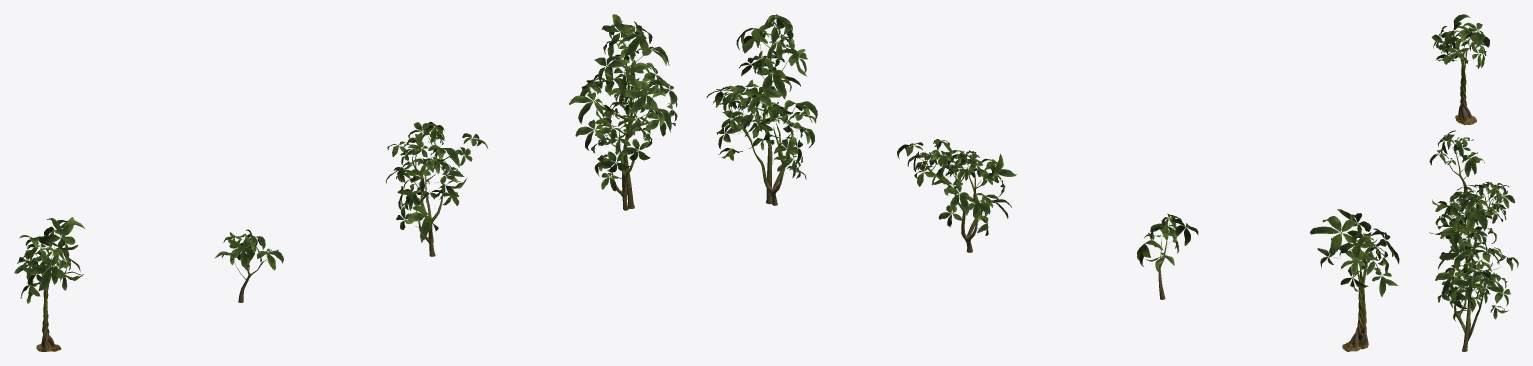
The model's file is sapling.jpg-B193Fxmn.glb.
The picture shows the model from 3 angles, left to right: view 1: azimuth 30°, elevation 25°; view 2: azimuth 150°, elevation 25°; view 3: azimuth 270°, elevation 25°; orthographic projection. The views are drawn at different scales.
Visible parts, largest first — view 1: pachira_aquatica_01_leaves_d, pachira_aquatica_01_leaves_c, pachira_aquatica_01_leaves_a, pachira_aquatica_01_leaves_b, pachira_aquatica_01_bark_d, pachira_aquatica_01_bark_c, pachira_aquatica_01_bark_a; view 2: pachira_aquatica_01_leaves_d, pachira_aquatica_01_leaves_c, pachira_aquatica_01_leaves_a, pachira_aquatica_01_leaves_b, pachira_aquatica_01_bark_d, pachira_aquatica_01_bark_a, pachira_aquatica_01_bark_c; view 3: pachira_aquatica_01_leaves_d, pachira_aquatica_01_leaves_c, pachira_aquatica_01_leaves_a, pachira_aquatica_01_leaves_b, pachira_aquatica_01_bark_d, pachira_aquatica_01_bark_a, pachira_aquatica_01_bark_c, pachira_aquatica_01_bark_b.
Part boxes in pixels (box(x1,y1,x2,y2)): pachira_aquatica_01_leaves_d: box(569, 14, 677, 191); pachira_aquatica_01_leaves_c: box(385, 122, 487, 242); pachira_aquatica_01_leaves_a: box(14, 217, 84, 303); pachira_aquatica_01_leaves_b: box(214, 229, 283, 279); pachira_aquatica_01_bark_d: box(595, 44, 652, 210); pachira_aquatica_01_bark_c: box(409, 137, 457, 256); pachira_aquatica_01_bark_a: box(36, 265, 61, 351); pachira_aquatica_01_leaves_d: box(706, 14, 817, 179); pachira_aquatica_01_leaves_c: box(897, 139, 1016, 235); pachira_aquatica_01_leaves_a: box(1310, 209, 1399, 297); pachira_aquatica_01_leaves_b: box(1137, 213, 1198, 274); pachira_aquatica_01_bark_d: box(728, 43, 793, 205); pachira_aquatica_01_bark_a: box(1342, 259, 1368, 351); pachira_aquatica_01_bark_c: box(923, 159, 986, 252); pachira_aquatica_01_leaves_d: box(1429, 190, 1518, 321); pachira_aquatica_01_leaves_c: box(1432, 182, 1515, 244); pachira_aquatica_01_leaves_a: box(1431, 14, 1489, 68); pachira_aquatica_01_leaves_b: box(1429, 130, 1484, 179); pachira_aquatica_01_bark_d: box(1454, 219, 1492, 351); pachira_aquatica_01_bark_a: box(1455, 48, 1476, 125); pachira_aquatica_01_bark_c: box(1453, 190, 1497, 268); pachira_aquatica_01_bark_b: box(1449, 149, 1467, 195).
Bounding box in the file's own units: 6.87 × 1.9 × 0.997.
Materials: 2 (2 with a texture image).
